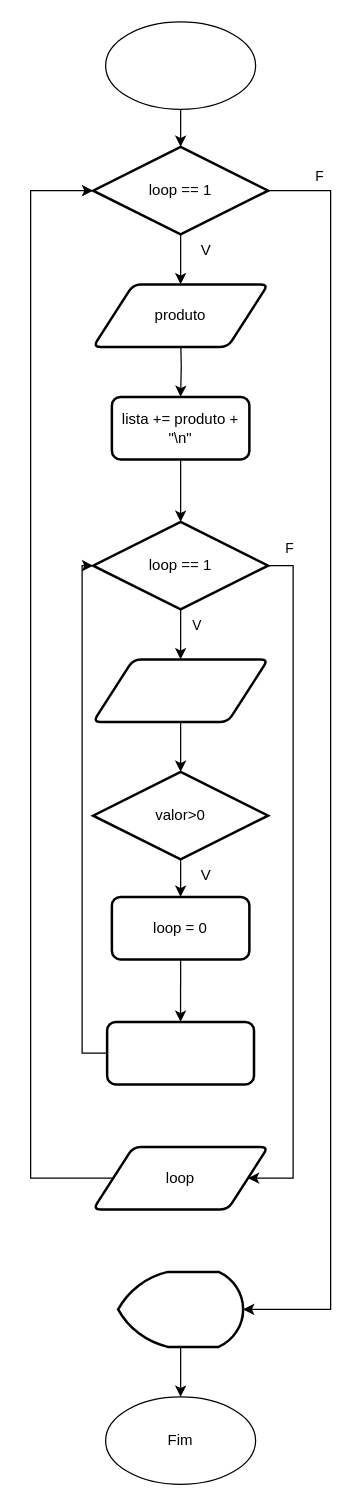
The diagram is 363 pixels wide and 1506 high, and some of its shapes have lost their labels. The centre of each missing label's shape, as x and y in pixels:
"Inicio" belongs at pixel 180 65.
"produto valor" belongs at pixel 180 1309.
"valor" belongs at pixel 180 690.
"valorTotal += valor" belongs at pixel 180 1052.
